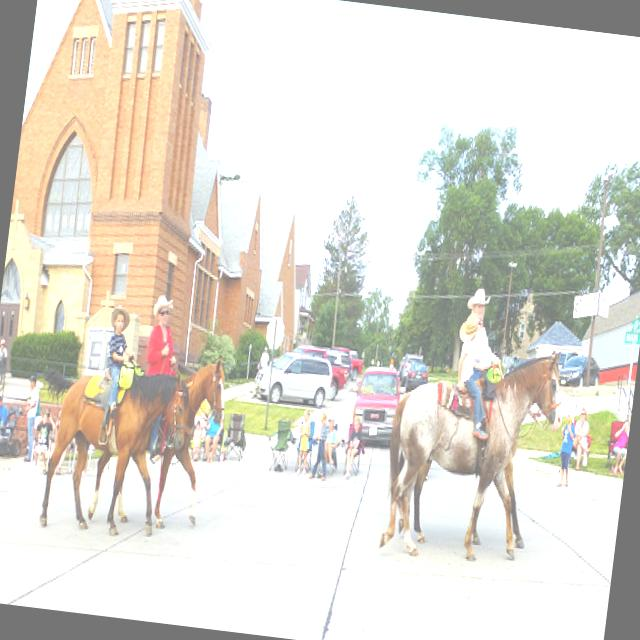Vehicle: (345, 353, 405, 448), (251, 348, 339, 410), (286, 340, 354, 405), (557, 350, 602, 390), (403, 360, 430, 396), (398, 352, 424, 388), (324, 348, 354, 374), (349, 358, 364, 380), (349, 349, 358, 358)
